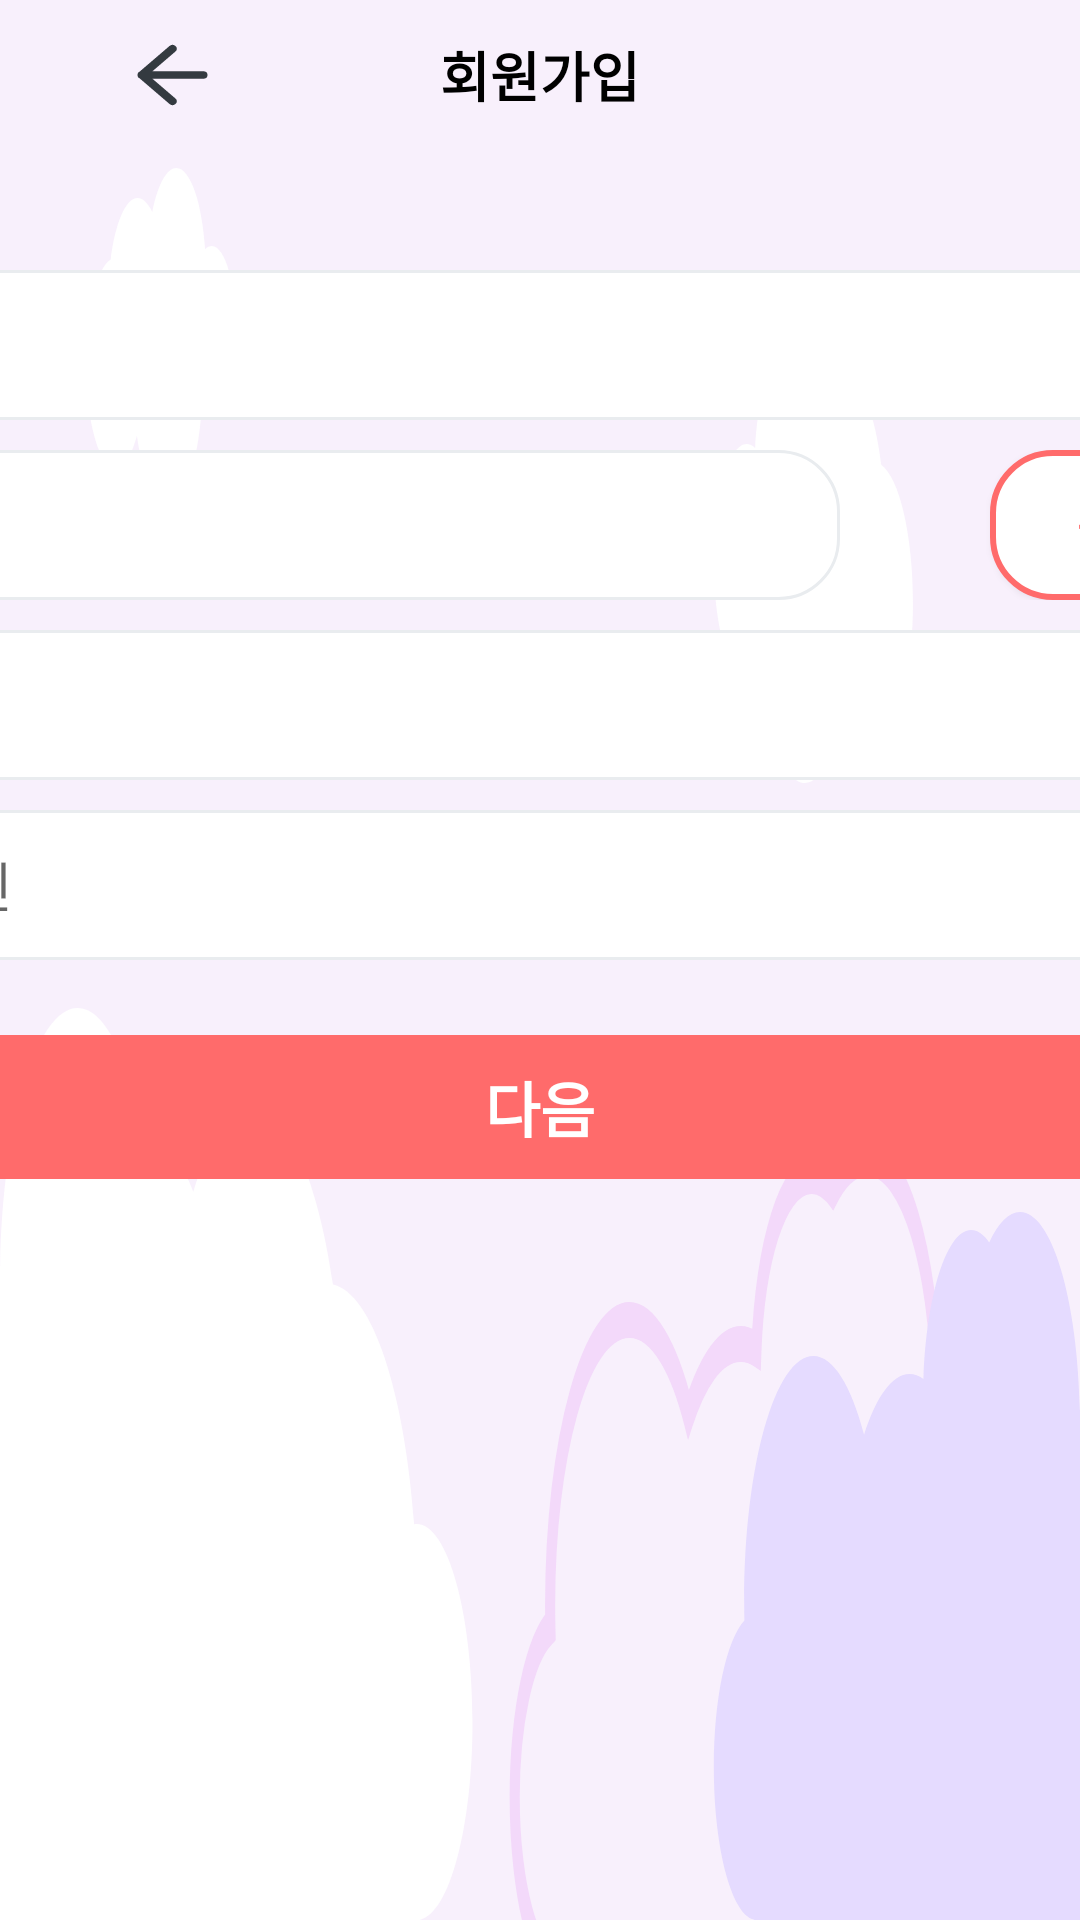

Named icons in this screenshot (1080px x 1920px) and their centers, point (x, y):
left: point (172, 75)
